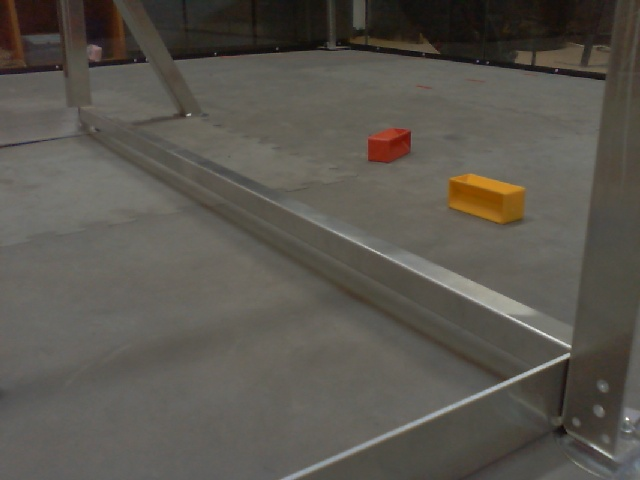RedSample: (364, 128, 414, 164)
YellowSample: (442, 170, 529, 228)
